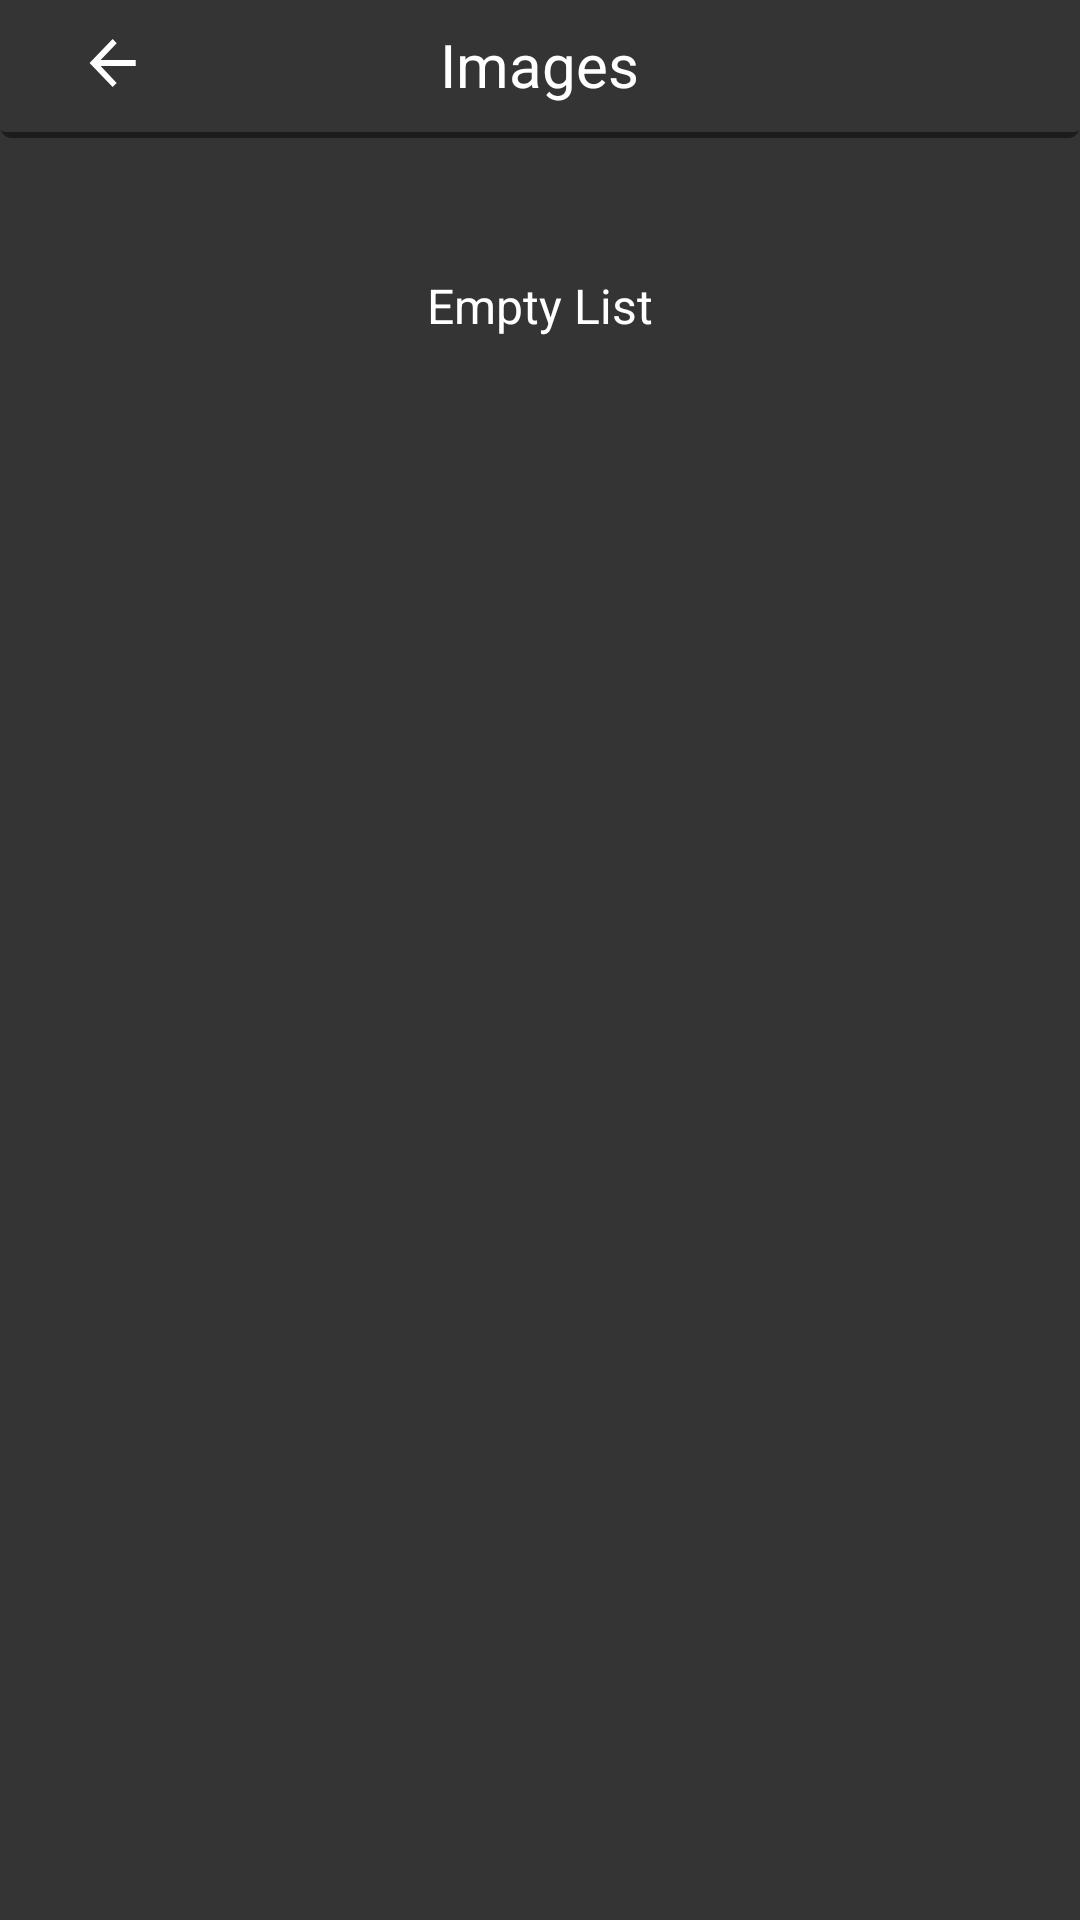

Icons on this 1080w x 1920h Android screen, each with the point to tap as [x,y]:
back: [113,63]
